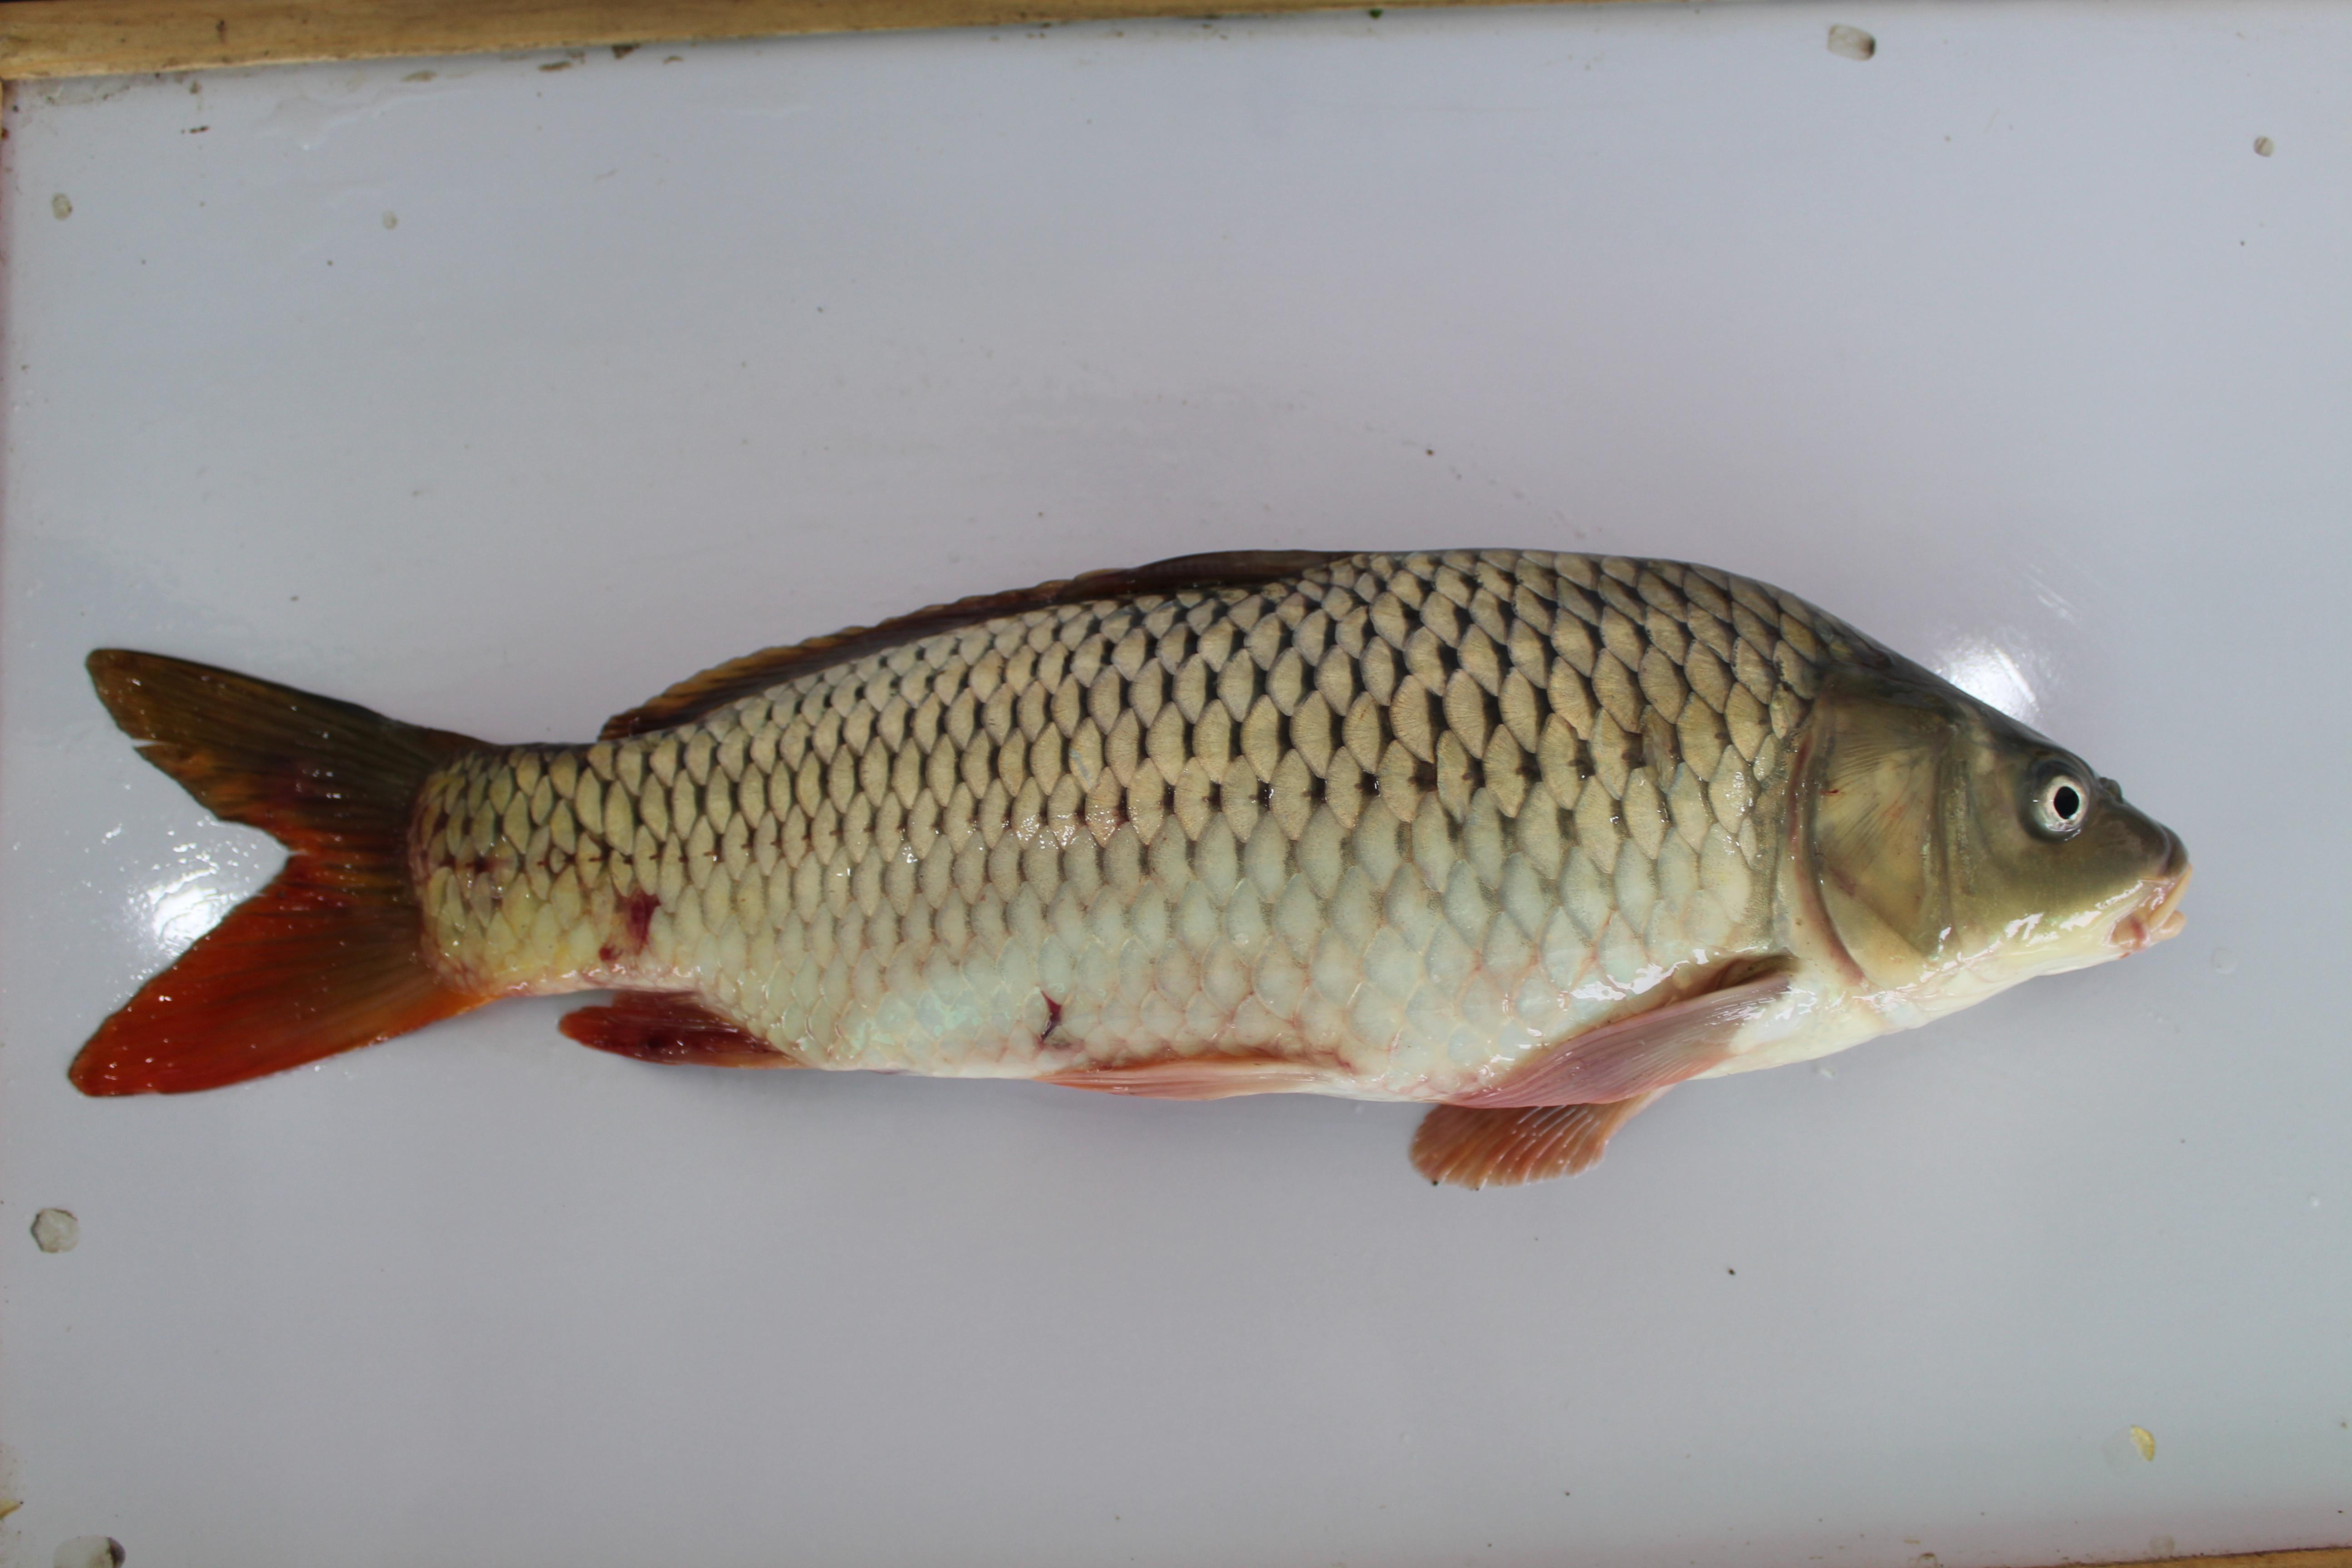Grass Carp: (82, 555, 2186, 1187)
